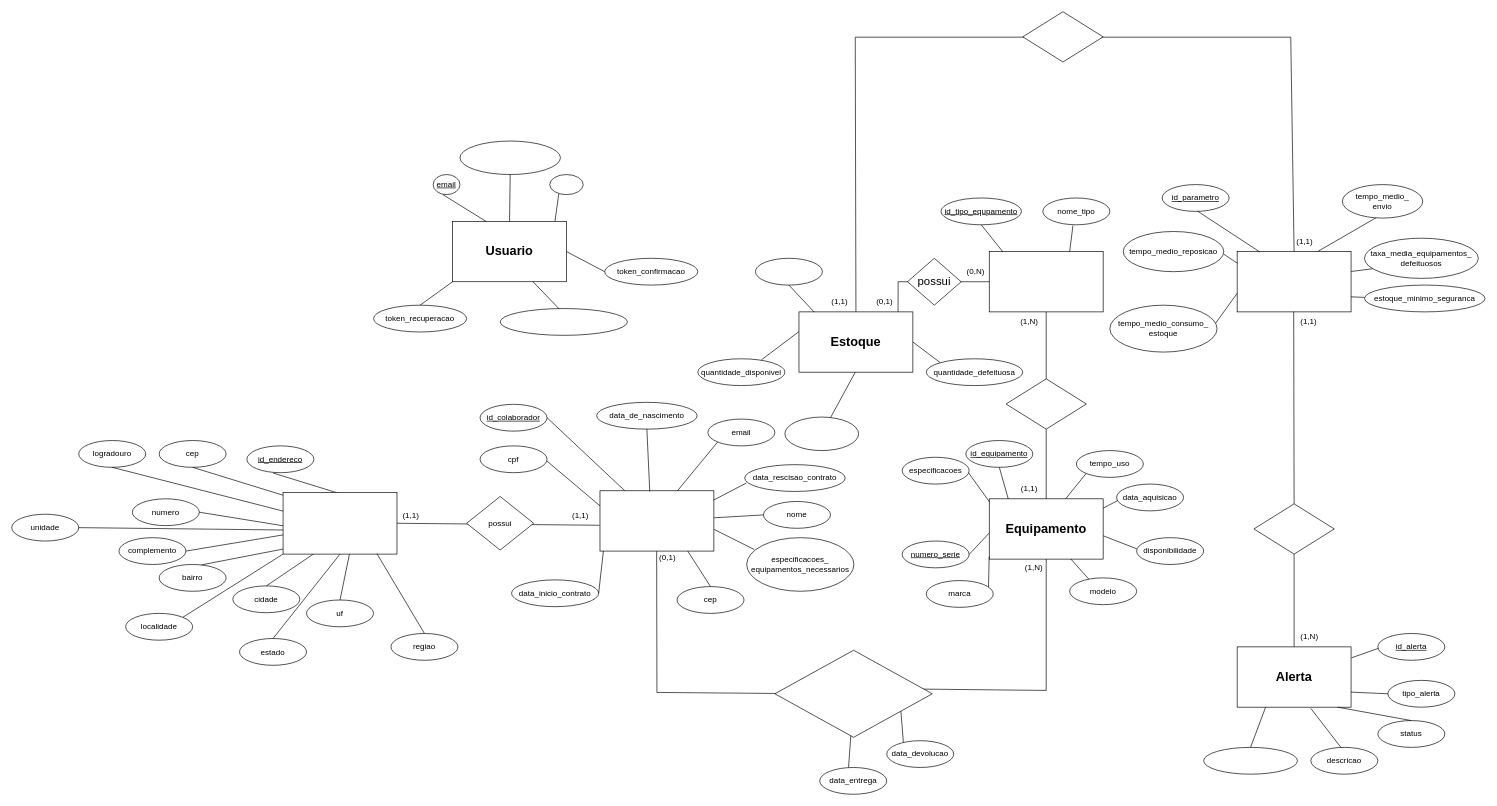
Image size: 1497x806. Some labels were removed from this diagram. Each missing label, with the box of its shape:
administra: (1022, 11, 1103, 62)
categoriza: (1005, 378, 1086, 429)
Colaborador: (599, 490, 714, 551)
data_hora_geracao: (1203, 747, 1297, 774)
Endereco: (282, 492, 397, 554)
Equipamento_To_Colaborador: (774, 650, 932, 737)
id_estoque: (755, 258, 822, 285)
influencia: (1253, 503, 1334, 554)
Parametro_Sistema: (1236, 251, 1351, 312)
quantidade_em_ uso: (784, 416, 859, 451)
senha: (549, 174, 583, 195)
status_confirmacao_email: (459, 140, 560, 175)
Tipo_Equipamento: (989, 251, 1103, 312)
token_recuperacao_validade: (499, 308, 627, 335)
